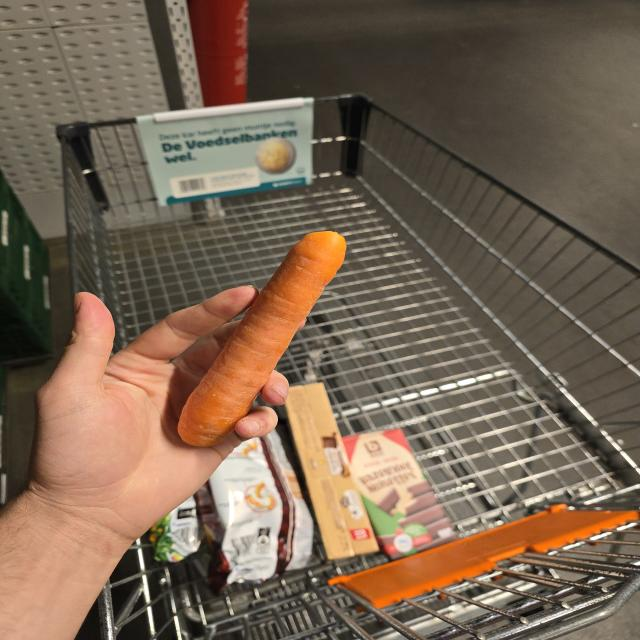Carrot: (178, 231, 346, 446)
